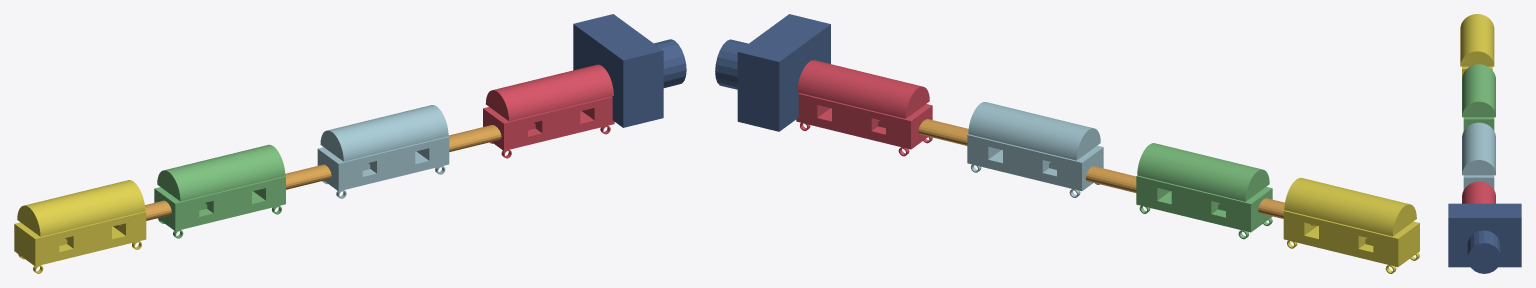
The model's file is Powerful Waasa-Vihelmo.glb.
The picture shows the model from 3 angles, left to right: view 1: azimuth 30°, elevation 25°; view 2: azimuth 150°, elevation 25°; view 3: azimuth 270°, elevation 25°; orthographic projection. The views are drawn at different scales.
Visible parts, largest first — view 1: Mesh_Mesh_head_geo.001_lambert2SG.001; view 2: Mesh_Mesh_head_geo.001_lambert2SG.001; view 3: Mesh_Mesh_head_geo.001_lambert2SG.001.
Boxes of the visible parts, x1,y1,x2,y2 form: Mesh_Mesh_head_geo.001_lambert2SG.001: (14,14,686,273); Mesh_Mesh_head_geo.001_lambert2SG.001: (715,14,1419,273); Mesh_Mesh_head_geo.001_lambert2SG.001: (1448,14,1521,273).
Size of the model in its own units: 325 by 38 by 43.
